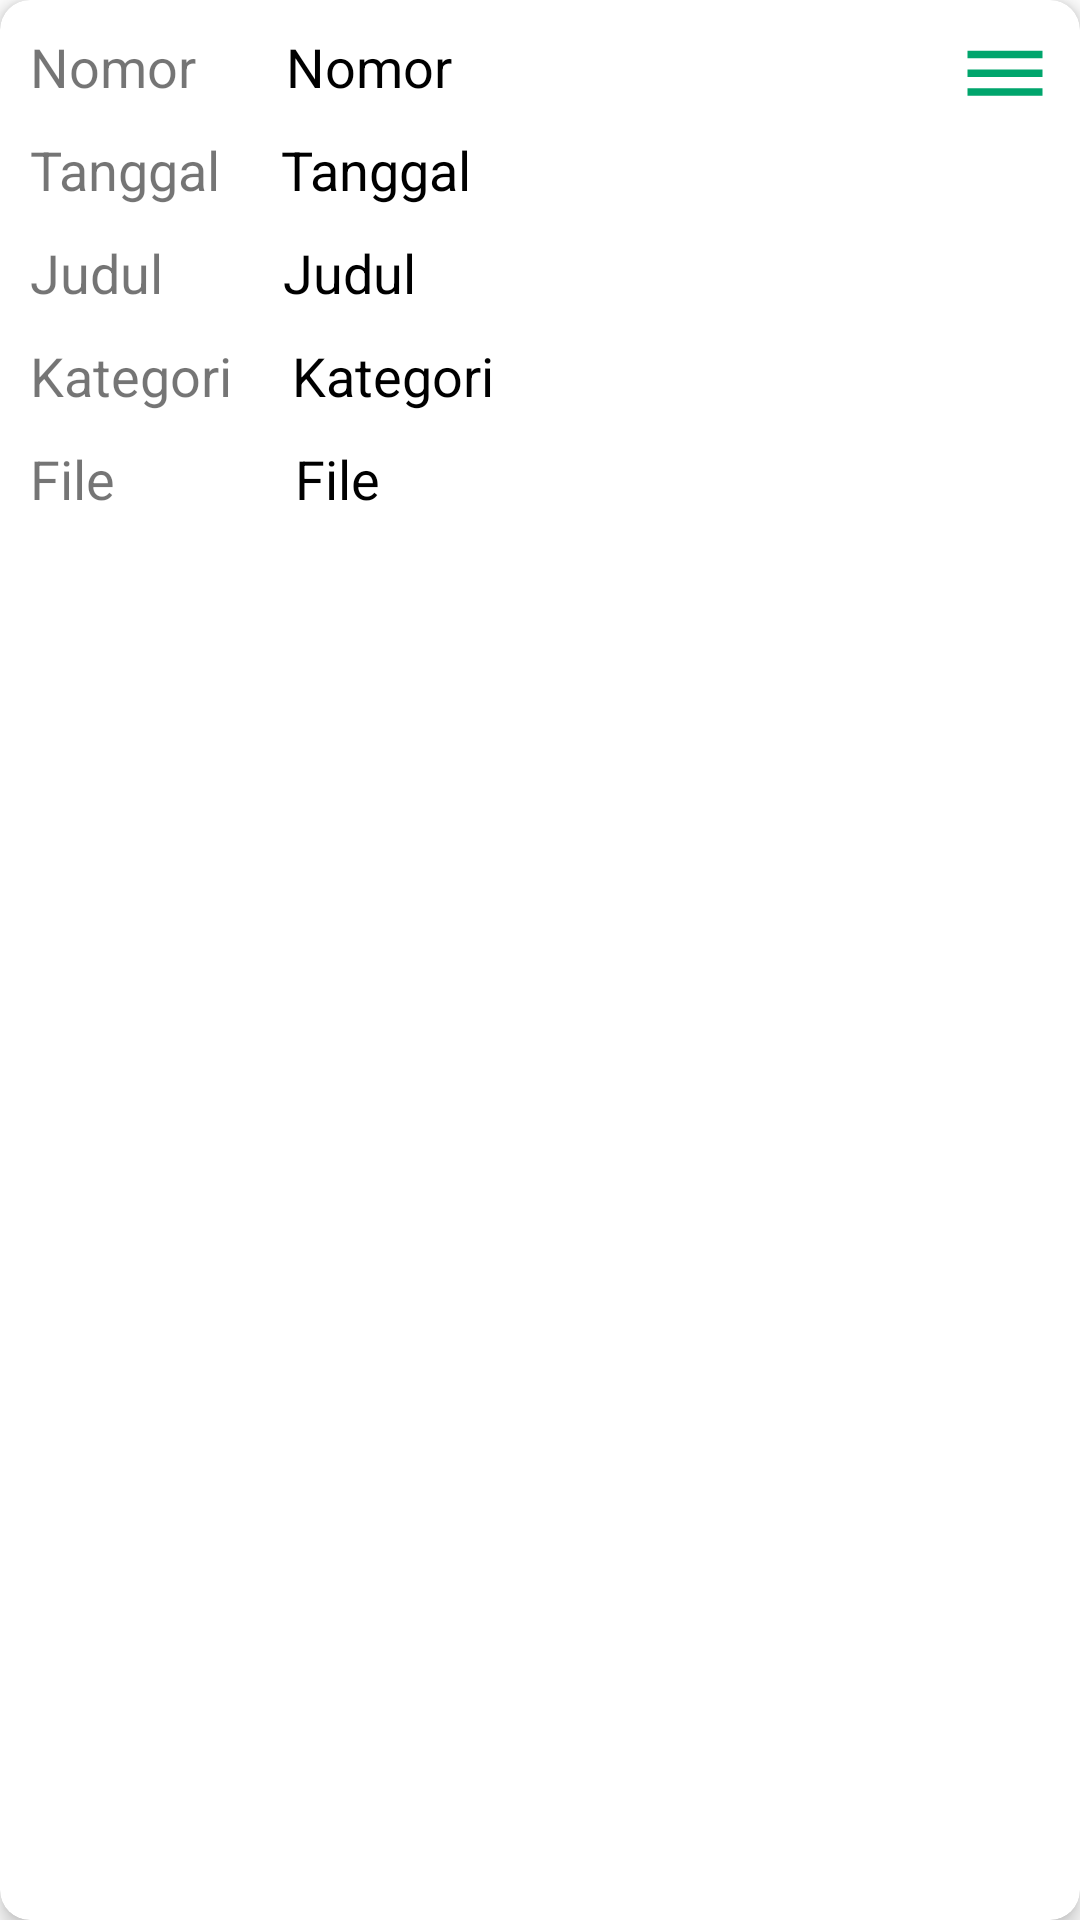

Point at icon controls on the screen. Image size 1080x1920, points as [x,y].
dehaze: [1005,73]
